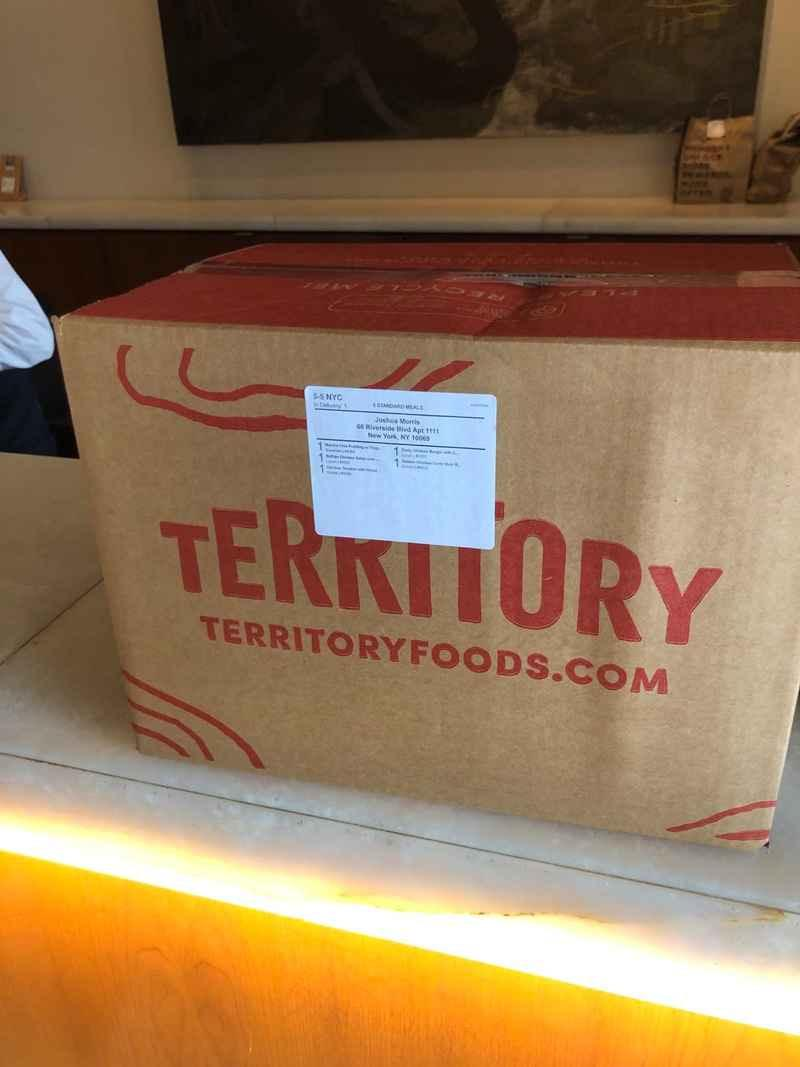package: (45, 226, 800, 875)
